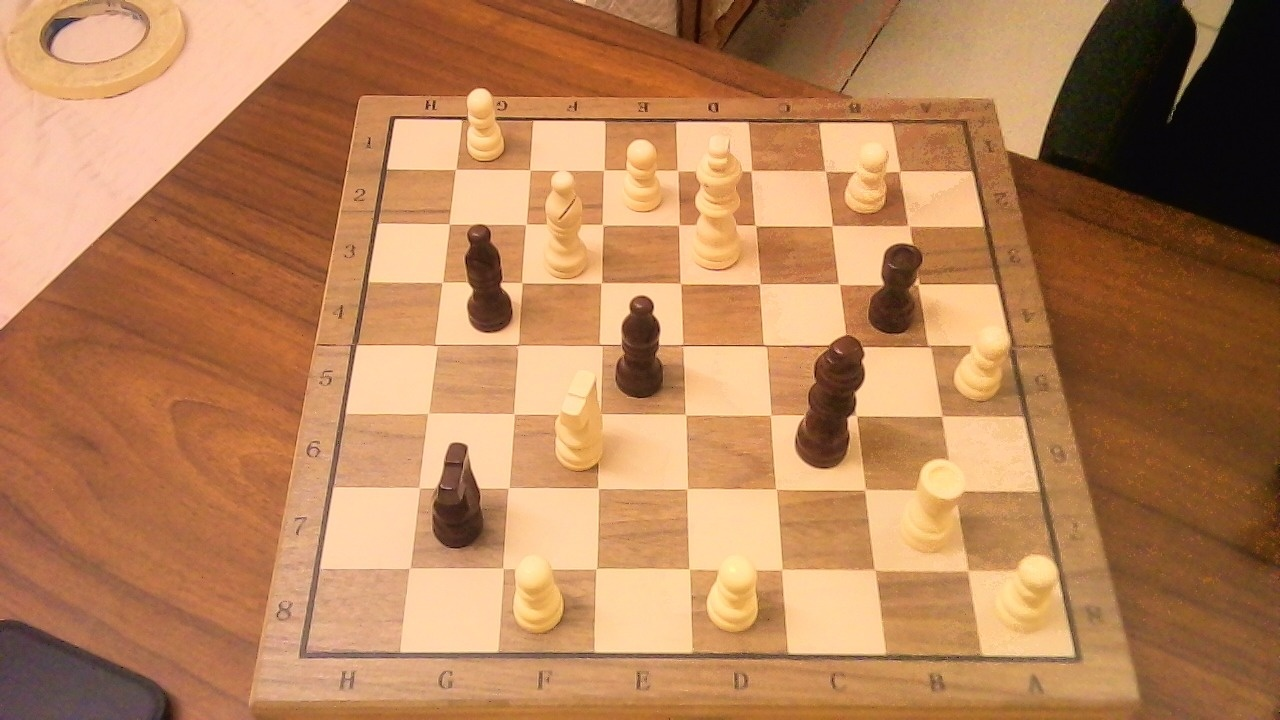B: (532, 159, 596, 282)
K: (684, 123, 754, 275)
N: (545, 358, 609, 474)
P: (989, 543, 1068, 637), (505, 544, 573, 638), (699, 545, 766, 636), (948, 317, 1018, 404), (612, 130, 669, 217), (838, 133, 897, 217), (460, 80, 511, 164)
R: (891, 448, 973, 559)
b: (453, 210, 520, 336), (608, 282, 677, 401)
k: (788, 320, 880, 475)
n: (421, 428, 497, 551)
r: (860, 230, 932, 337)
